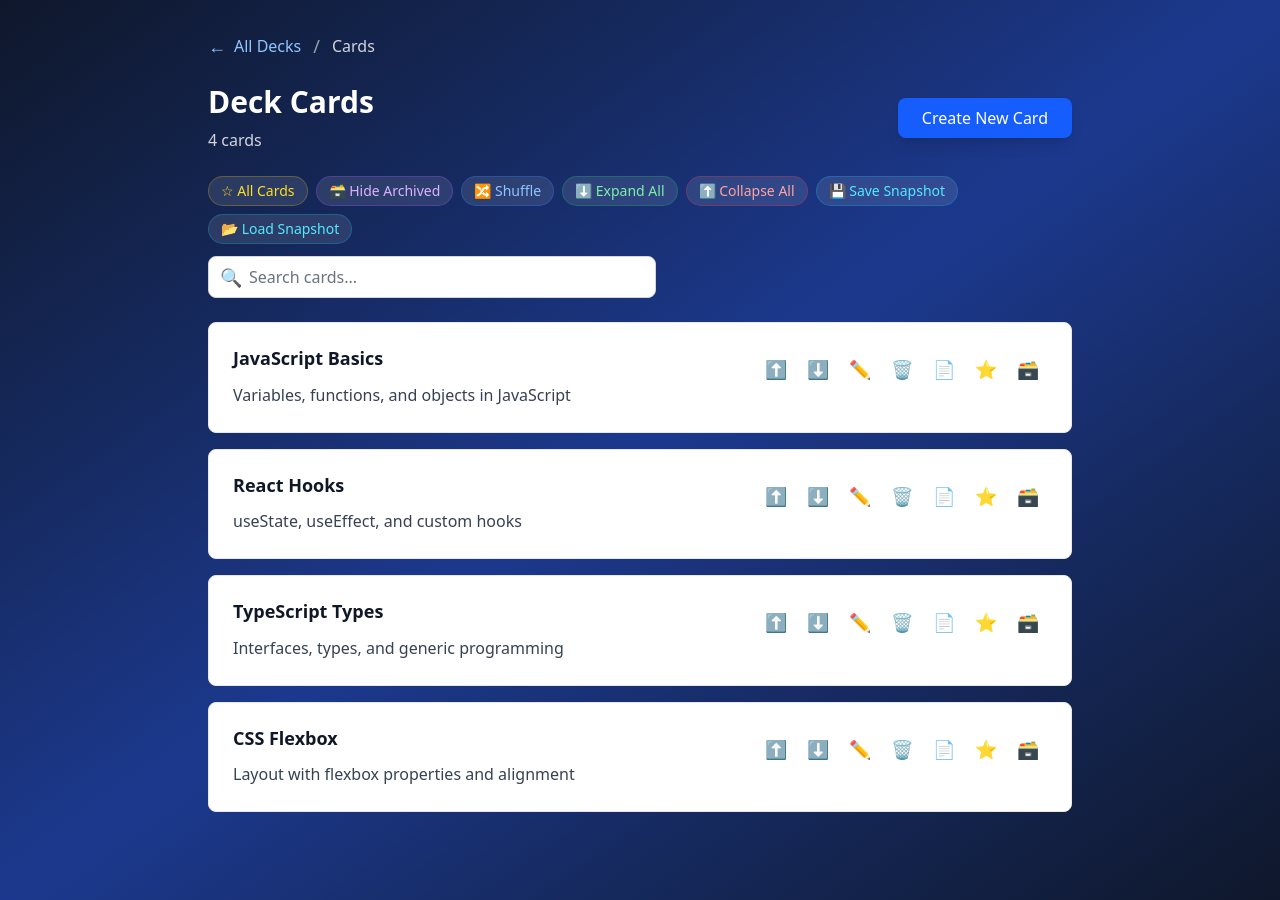
CardScreen Component › Advanced Card Filtering › should filter cards by body content
In the field with placeholder "Search cards...": coordinates (432, 277) [208,256,656,298], type "functions"
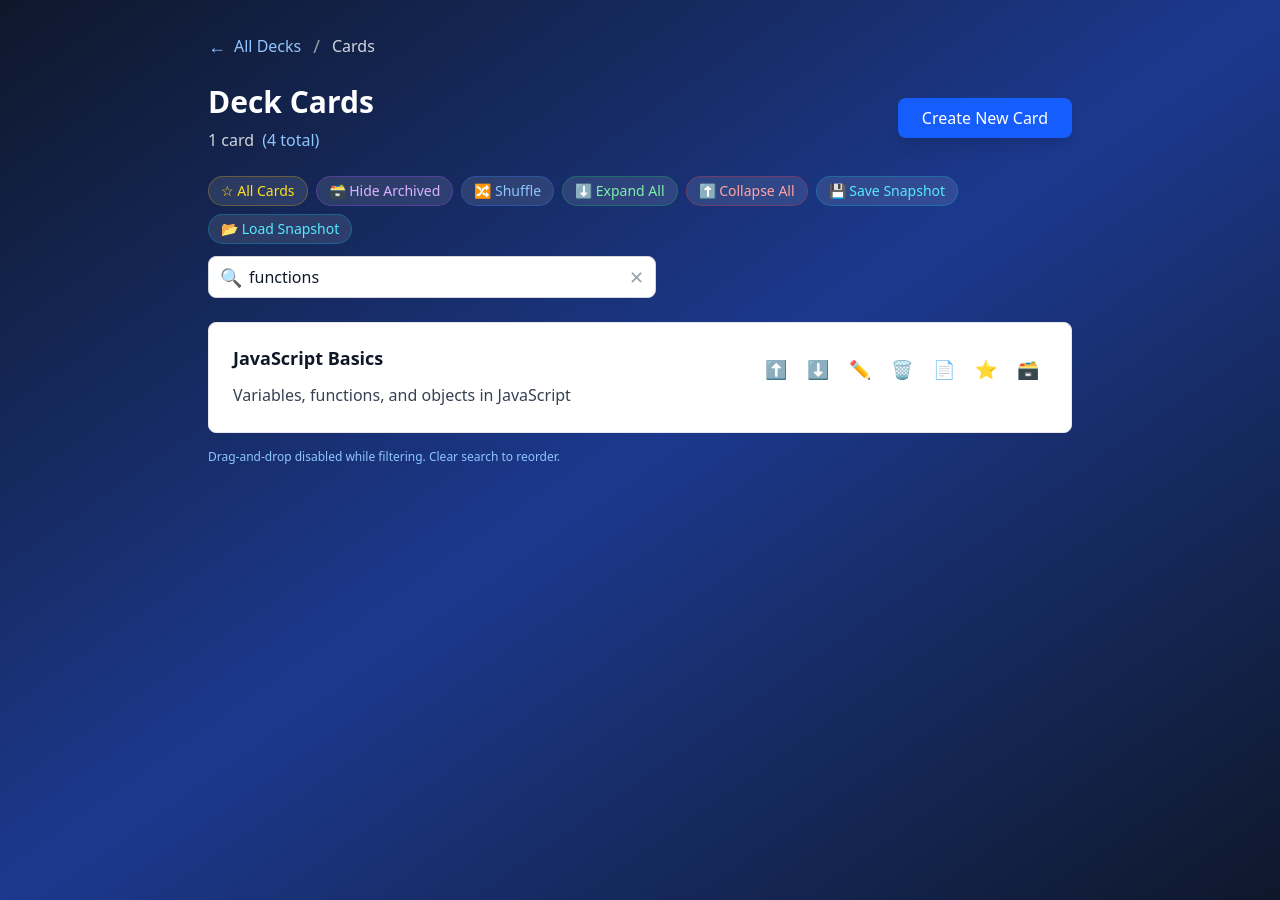
Now the button "React Hooks" is gone
Now the button "TypeScript Types" is gone
Now the button "CSS Flexbox" is gone
